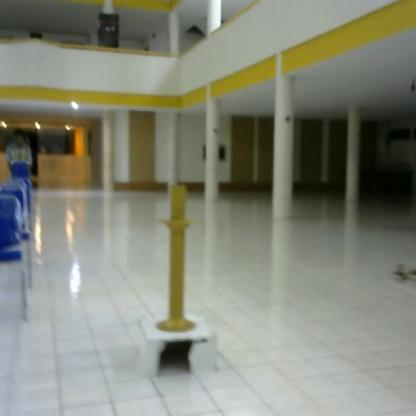pole: (152, 177, 203, 339)
